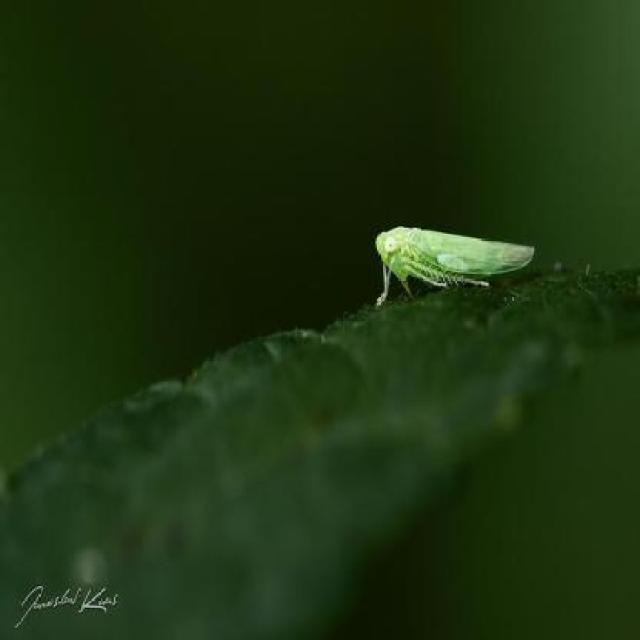green-leafhopper: (370, 225, 541, 306)
